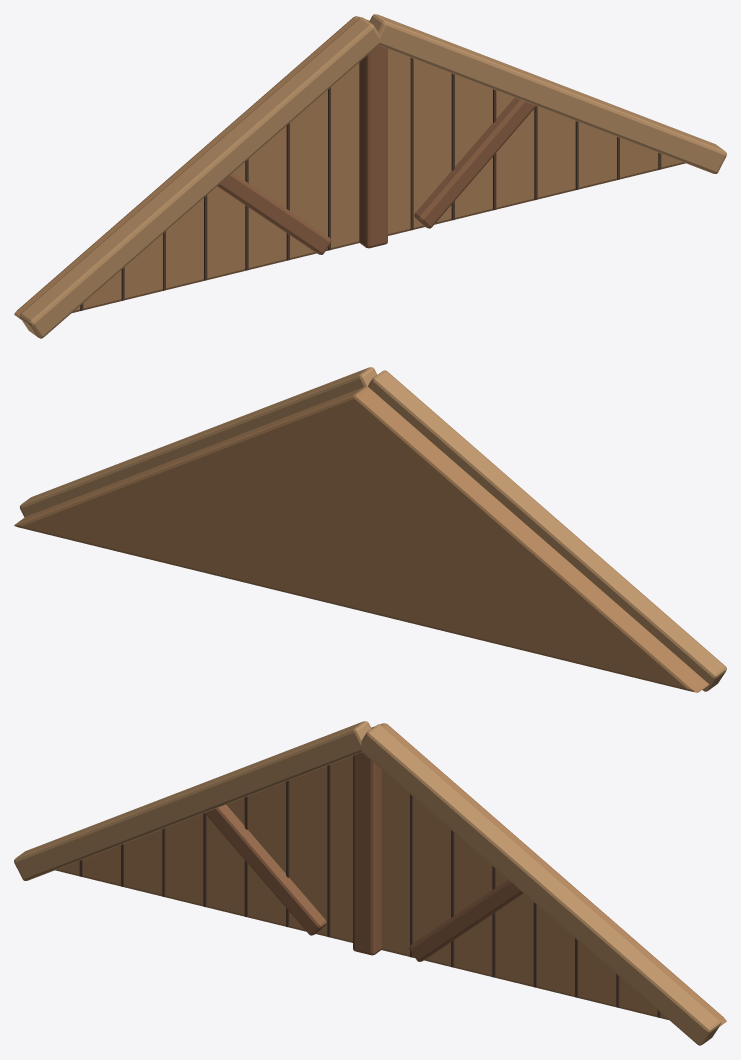
The model's file is gable_timber_4m.glb.
3 renders of one model, top to bottom at view 1: azimuth 30°, elevation 25°; view 2: azimuth 150°, elevation 25°; view 3: azimuth 330°, elevation 25°, orthographic.
Parts seen in each view (by area): view 1: gable_timber_4m; view 2: gable_timber_4m; view 3: gable_timber_4m.
Part boxes in pixels (box(x1,y1,x2,y2)): gable_timber_4m: box(14, 14, 726, 338); gable_timber_4m: box(14, 367, 726, 692); gable_timber_4m: box(14, 721, 726, 1045).
Bounding box in the file's own units: 4.05 × 1.3 × 0.255.
